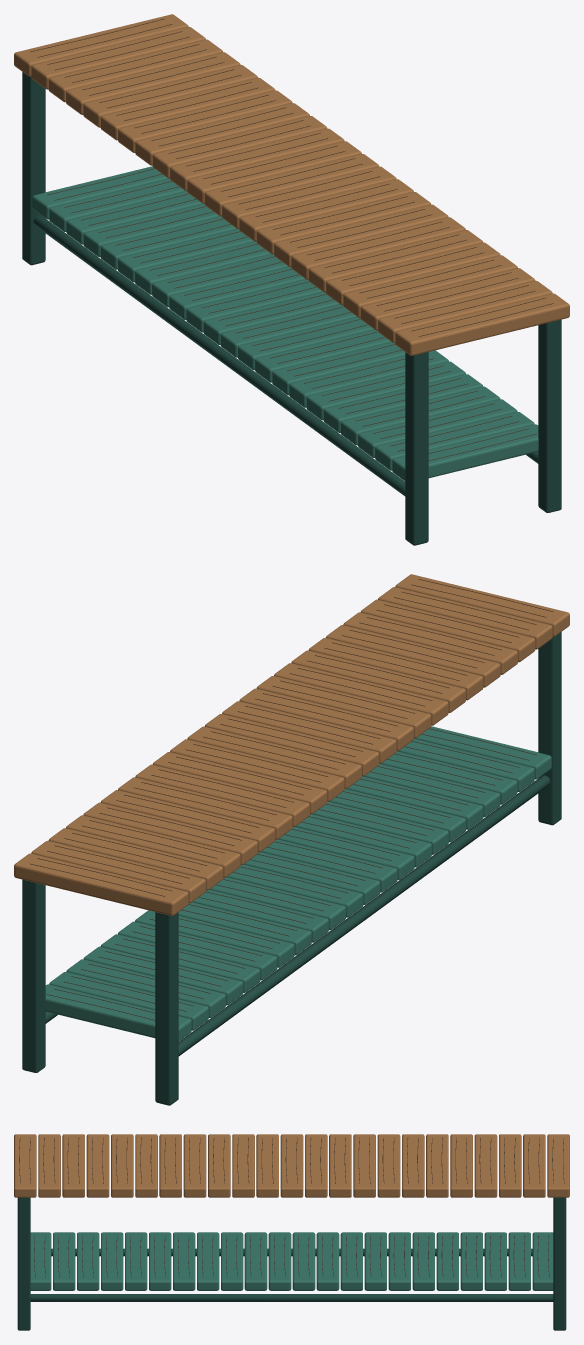
Rendered from nursery_bench.glb.
The picture shows the model from 3 angles, top to bottom: view 1: azimuth 30°, elevation 25°; view 2: azimuth 150°, elevation 25°; view 3: azimuth 270°, elevation 25°; orthographic projection. The views are drawn at different scales.
Parts seen in each view (by area): view 1: Side_brace, Bevelled_timber.022, Leg.001, Leg.003, Leg, Bevelled_timber.044, Bevelled_timber.007, Bevelled_timber.017, Bevelled_timber.020, Bevelled_timber, Bevelled_timber.008, Bevelled_timber.018 (+37 smaller); view 2: Side_brace, Bevelled_timber, Leg, Leg.002, Leg.001, Bevelled_timber.023, Bevelled_timber.002, Bevelled_timber.005, Bevelled_timber.015, Bevelled_timber.004, Bevelled_timber.014, Bevelled_timber.022 (+37 smaller); view 3: Side_brace.001, Leg.002, Leg.003, Bevelled_timber.003, Bevelled_timber.007, Bevelled_timber.015, Bevelled_timber.019, Bevelled_timber.011, Bevelled_timber.002, Bevelled_timber.006, Bevelled_timber.016, Bevelled_timber.020 (+37 smaller).
Boxes of the visible parts, bbox=[...] form: Side_brace: bbox=[33, 215, 405, 496]; Bevelled_timber.022: bbox=[395, 293, 569, 355]; Leg.001: bbox=[405, 352, 428, 545]; Leg.003: bbox=[538, 319, 561, 512]; Leg: bbox=[22, 72, 45, 265]; Bevelled_timber.044: bbox=[392, 424, 538, 481]; Bevelled_timber.007: bbox=[135, 103, 309, 165]; Bevelled_timber.017: bbox=[308, 230, 483, 292]; Bevelled_timber.020: bbox=[360, 268, 535, 330]; Bevelled_timber: bbox=[14, 14, 188, 76]; Bevelled_timber.008: bbox=[152, 116, 327, 178]; Bevelled_timber.018: bbox=[326, 242, 500, 305]; Side_brace: bbox=[178, 775, 550, 1056]; Bevelled_timber: bbox=[14, 853, 188, 915]; Leg: bbox=[155, 912, 178, 1105]; Leg.002: bbox=[22, 879, 45, 1072]; Leg.001: bbox=[538, 632, 561, 825]; Bevelled_timber.023: bbox=[45, 984, 191, 1041]; Bevelled_timber.002: bbox=[48, 828, 223, 890]; Bevelled_timber.005: bbox=[100, 790, 275, 852]; Bevelled_timber.015: bbox=[274, 663, 448, 725]; Bevelled_timber.004: bbox=[83, 802, 257, 865]; Bevelled_timber.014: bbox=[256, 676, 431, 738]; Bevelled_timber.022: bbox=[395, 574, 569, 636]; Side_brace.001: bbox=[30, 1294, 553, 1301]; Leg.002: bbox=[553, 1197, 566, 1330]; Leg.003: bbox=[17, 1197, 30, 1330]; Bevelled_timber.003: bbox=[474, 1134, 497, 1197]; Bevelled_timber.007: bbox=[377, 1134, 400, 1197]; Bevelled_timber.015: bbox=[183, 1134, 206, 1197]; Bevelled_timber.019: bbox=[86, 1134, 109, 1197]; Bevelled_timber.011: bbox=[280, 1134, 303, 1197]; Bevelled_timber.002: bbox=[499, 1134, 521, 1197]; Bevelled_timber.006: bbox=[402, 1134, 424, 1197]; Bevelled_timber.016: bbox=[159, 1134, 181, 1197]; Bevelled_timber.020: bbox=[62, 1134, 84, 1197].
Bounding box in the file's own units: 0.65 × 0.8045 × 2.79.
